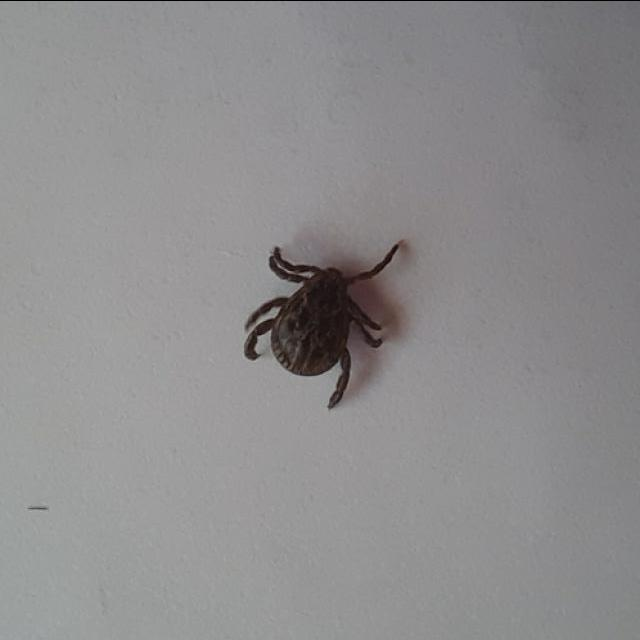Dermacentor Reticulatus-M: (245, 244, 400, 407)
